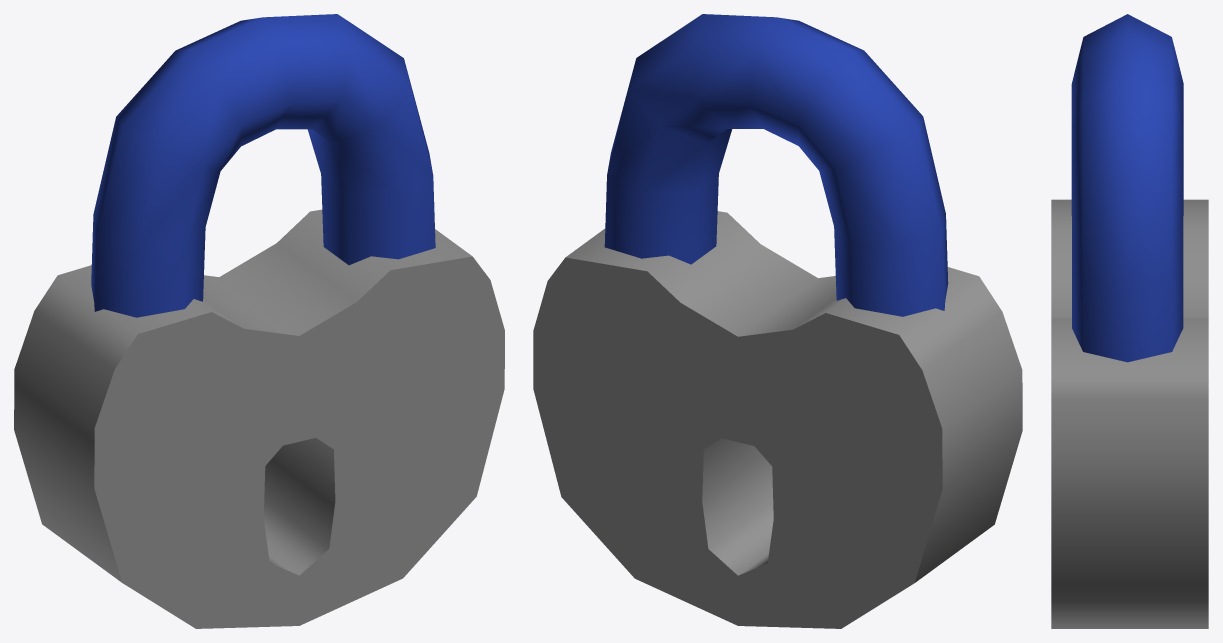
The model's file is Lock_mm.fbx.
3 views of the same model, side by side, from view 1: azimuth 30°, elevation 25°; view 2: azimuth 150°, elevation 25°; view 3: azimuth 270°, elevation 25° (orthographic). The views are drawn at different scales.
Visible parts, largest first — view 1: Lock; view 2: Lock; view 3: Lock.
Boxes of the visible parts, x1,y1,x2,y2 form: Lock: (14, 14, 504, 628); Lock: (533, 14, 1022, 628); Lock: (1051, 14, 1208, 628).
Size of the model in its own units: 47.27 by 63.75 by 16.02.
